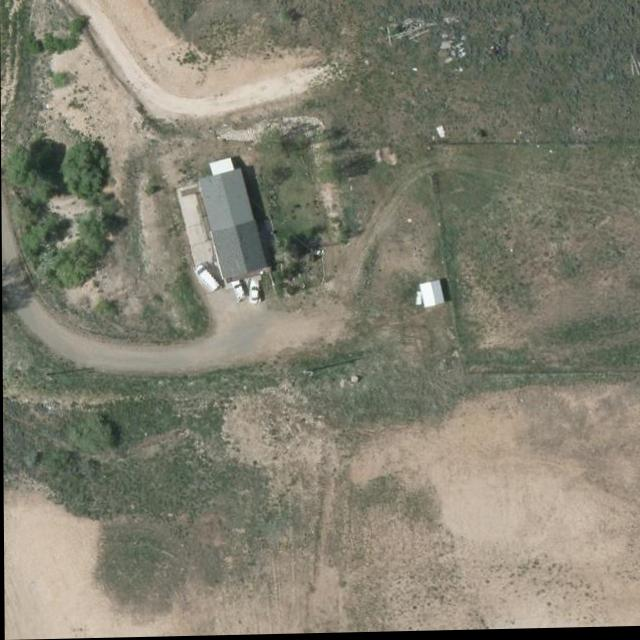vehicle: (195, 262, 220, 296), (242, 280, 264, 307), (230, 281, 246, 303)
